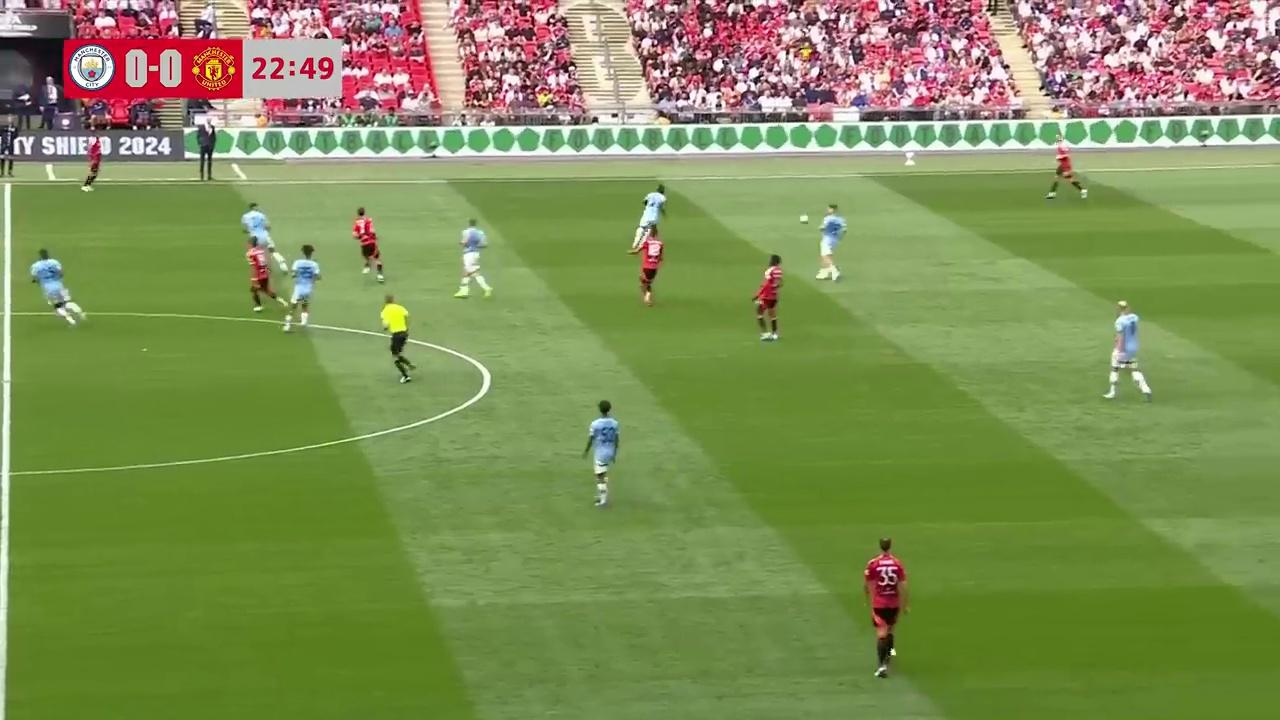ball: (799, 211, 809, 224)
player: (863, 536, 909, 679), (1102, 300, 1152, 401), (29, 246, 83, 326), (582, 400, 620, 508), (283, 244, 322, 331), (453, 219, 492, 299), (245, 238, 285, 312), (752, 255, 782, 342), (1045, 141, 1087, 201), (814, 204, 846, 282), (631, 227, 663, 305), (351, 207, 384, 281), (630, 185, 666, 252), (240, 201, 278, 258), (81, 134, 102, 191)
referee: (380, 293, 414, 383)
